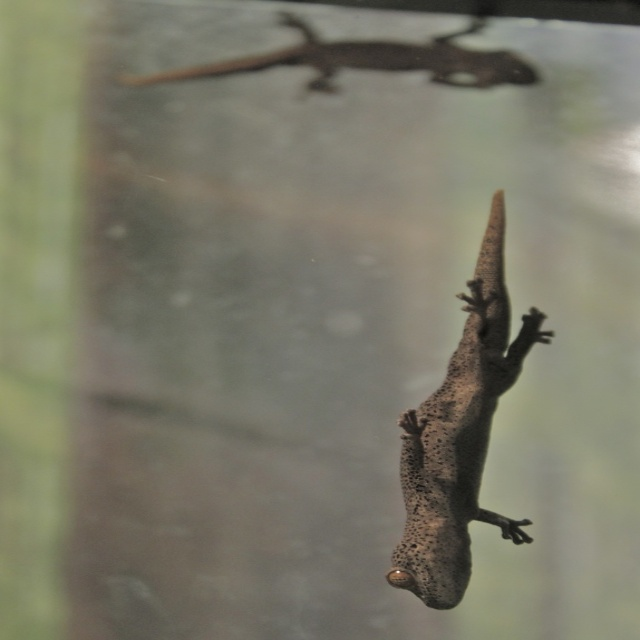Lizard: (370, 186, 557, 624)
